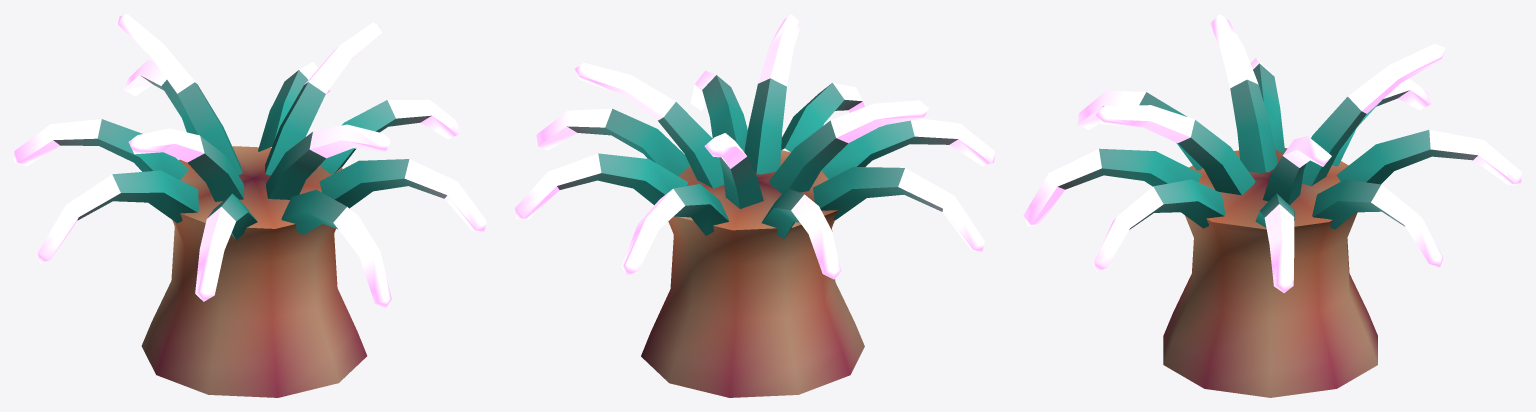
File: anemone_decor.glb
3 views of the same model, side by side, from view 1: azimuth 30°, elevation 25°; view 2: azimuth 150°, elevation 25°; view 3: azimuth 270°, elevation 25° (orthographic).
Visible parts, largest first — view 1: anemone_decor; view 2: anemone_decor; view 3: anemone_decor.
Part boxes in pixels (x1,y1,x2,y2): anemone_decor: (14, 14, 486, 397); anemone_decor: (515, 14, 994, 397); anemone_decor: (1023, 14, 1521, 397).
Bounding box in the file's own units: 0.9542 × 0.6 × 0.9501.
